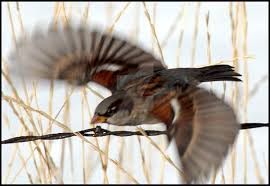hsparrow: (12, 27, 244, 186)
